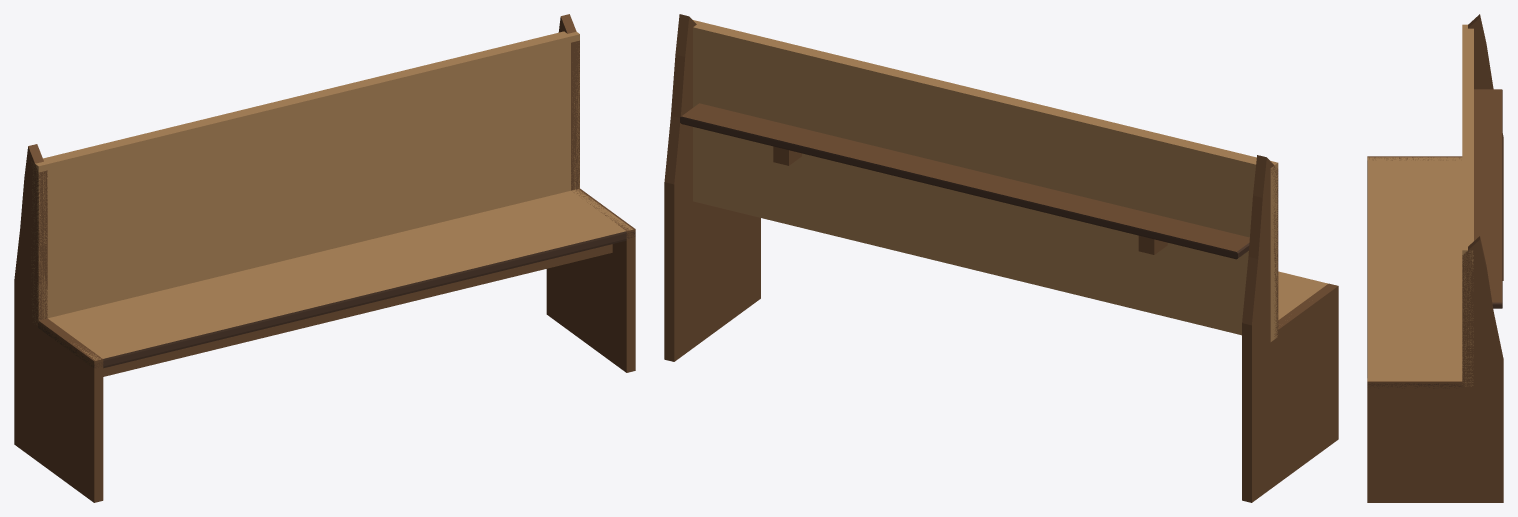
The model's file is FN_Bench_Pew.obj.
3 views of the same model, side by side, from view 1: azimuth 30°, elevation 25°; view 2: azimuth 150°, elevation 25°; view 3: azimuth 270°, elevation 25° (orthographic). The views are drawn at different scales.
Visible parts, largest first — view 1: FN_Bench_Pew; view 2: FN_Bench_Pew; view 3: FN_Bench_Pew.
Boxes of the visible parts, box(x1,y1,x2,y2) form: FN_Bench_Pew: box(14, 14, 635, 502); FN_Bench_Pew: box(664, 14, 1338, 502); FN_Bench_Pew: box(1367, 14, 1503, 502).
Size of the model in its own units: 1.8 by 0.98 by 0.46.
Materials: 1 (1 with a texture image).
